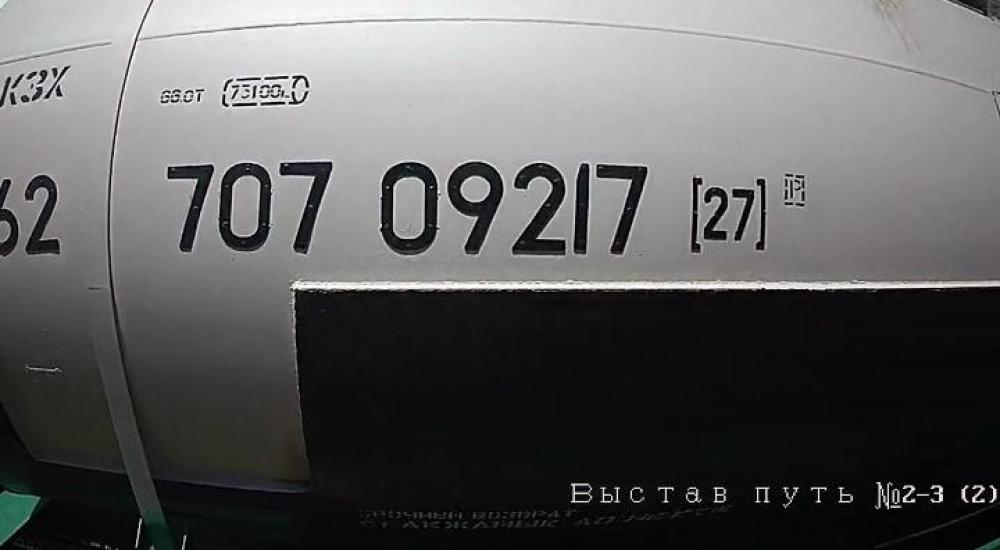Wagon-number: (158, 156, 653, 263)
